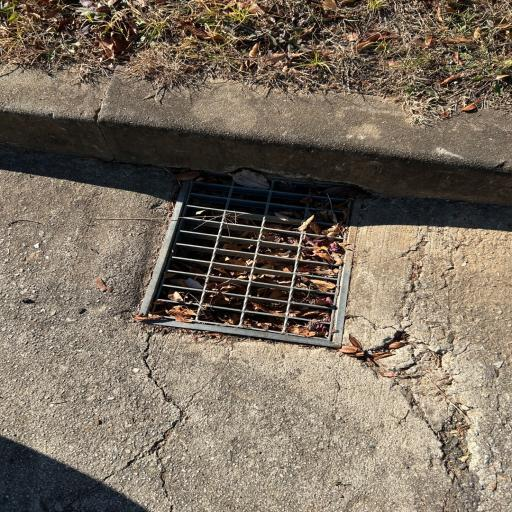debris: (142, 305, 197, 322), (297, 216, 345, 235), (304, 249, 343, 265), (288, 323, 328, 338), (293, 291, 332, 306), (297, 277, 335, 292), (289, 308, 330, 321), (251, 300, 284, 315), (257, 259, 294, 272), (244, 319, 284, 331), (305, 237, 341, 250), (263, 232, 299, 245), (298, 266, 338, 277), (254, 273, 290, 285), (215, 267, 249, 279), (312, 211, 344, 223), (256, 288, 289, 299), (208, 281, 243, 291), (261, 248, 296, 258), (312, 200, 346, 210), (171, 279, 203, 288), (206, 294, 235, 303), (221, 258, 253, 265), (274, 210, 302, 218), (223, 244, 251, 251), (167, 291, 185, 300), (223, 316, 239, 325)
drain: (138, 175, 363, 347)
